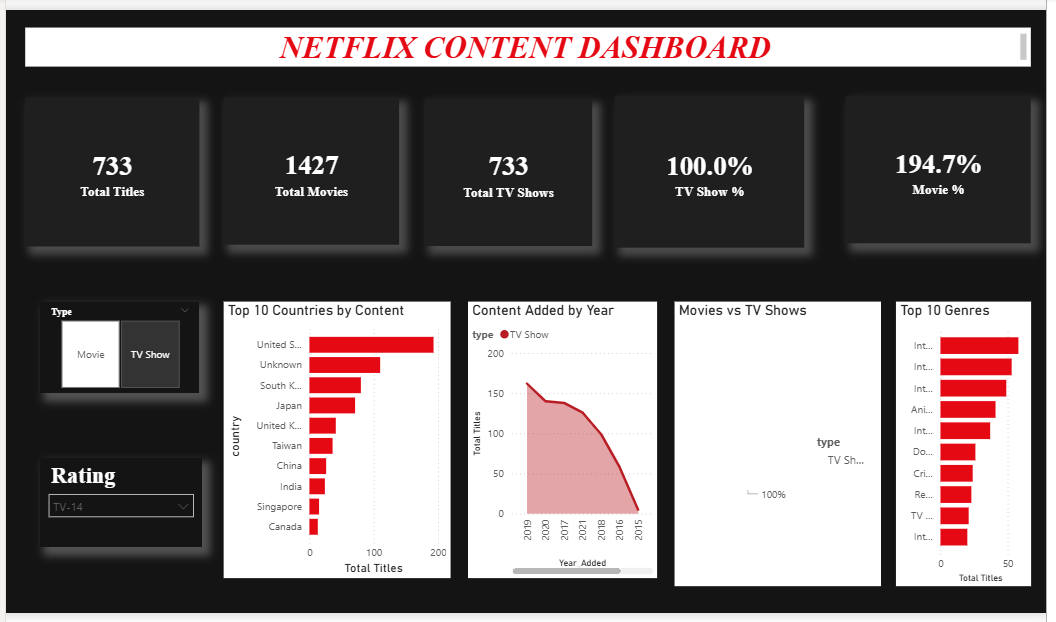

The dashboard page shown, as its layout file describes it:
{"tool":"powerbi","page":{"name":"Page 1","canvas":[1280,720],"ordinal":0},"visuals":[{"type":"card","fields":{"Values":["netflix_titles.Total Titles"]},"box":[51.6,104.8,208.1,177.4],"z":0},{"type":"card","fields":{"Values":["netflix_titles.Total Movies"]},"box":[288.7,104.8,209.7,175.8],"z":1000},{"type":"card","fields":{"Values":["netflix_titles.Total TV Shows"]},"box":[529,106.5,200,175.8],"z":2000},{"type":"card","fields":{"Values":["netflix_titles.Movie %"]},"box":[1032.3,103.2,221,175.8],"z":3000},{"type":"card","fields":{"Values":["netflix_titles.TV Show %"]},"box":[756.5,103.2,225.8,180.6],"z":4000},{"type":"textbox","box":[51.6,21,1201.6,46.8],"z":5000},{"type":"slicer","fields":{"Values":["netflix_titles.type"]},"box":[69.4,348.4,190.3,109.7],"z":6000},{"type":"slicer","fields":{"Values":["netflix_titles.rating"]},"box":[69.4,535.5,193.5,106.5],"z":7000},{"type":"areaChart","title":"Content Added by Year","fields":{"Category":["netflix_titles.Year_Added"],"Series":["netflix_titles.type"],"Y":["netflix_titles.Total Titles"]},"box":[580.6,348.4,225.8,330.6],"z":8000},{"type":"barChart","title":"Top 10 Countries by Content","fields":{"Category":["netflix_titles.country"],"Y":["netflix_titles.Total Titles"]},"box":[288.7,348.4,271,330.6],"z":9000},{"type":"donutChart","title":"Movies vs TV Shows","fields":{"Category":["netflix_titles.type"],"Y":["netflix_titles.Total Titles"]},"box":[827.4,348.4,246.8,340.3],"z":10000},{"type":"clusteredBarChart","title":"Top 10 Genres","fields":{"Category":["netflix_titles.listed_in"],"Y":["netflix_titles.Total Titles"]},"box":[1091.9,348.4,161.3,340.3],"z":11000}]}

Visuals, with their boxes in screenshot pixels (x1, y1, x2, y2):
card - netflix_titles.Total Titles: Rect(19, 94, 194, 244)
card - netflix_titles.Total Movies: Rect(219, 94, 396, 242)
card - netflix_titles.Total TV Shows: Rect(421, 95, 590, 244)
card - netflix_titles.Movie %: Rect(846, 93, 1032, 241)
card - netflix_titles.TV Show %: Rect(613, 93, 804, 245)
textbox: Rect(19, 23, 1032, 63)
slicer - netflix_titles.type: Rect(34, 299, 194, 392)
slicer - netflix_titles.rating: Rect(34, 457, 197, 547)
"Content Added by Year" areaChart: Rect(465, 299, 655, 578)
"Top 10 Countries by Content" barChart: Rect(219, 299, 447, 578)
"Movies vs TV Shows" donutChart: Rect(673, 299, 881, 586)
"Top 10 Genres" clusteredBarChart: Rect(896, 299, 1032, 586)
